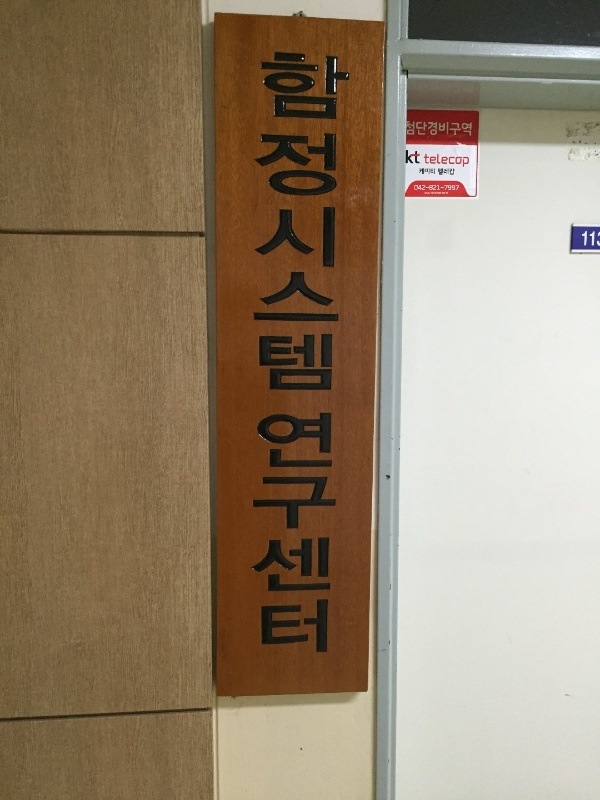text: (337, 43, 353, 662), (257, 43, 272, 662), (273, 43, 288, 662), (289, 43, 304, 662), (305, 43, 320, 662), (321, 43, 336, 662), (254, 43, 256, 662), (417, 119, 432, 138), (433, 119, 448, 138), (449, 119, 464, 138), (433, 153, 448, 168), (449, 153, 464, 168), (582, 229, 592, 249), (406, 119, 416, 138), (406, 149, 416, 166), (465, 119, 473, 138), (417, 184, 432, 192), (433, 184, 448, 192), (424, 153, 432, 168), (419, 167, 432, 176), (438, 168, 448, 177), (449, 184, 460, 192), (465, 153, 470, 168), (417, 149, 421, 166), (449, 168, 456, 177), (593, 229, 596, 249), (433, 167, 436, 176), (414, 184, 416, 192)
